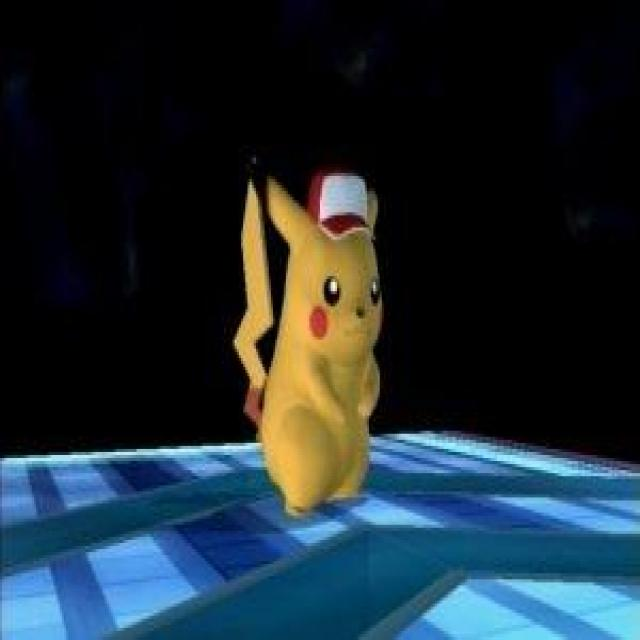pikachu: (234, 176, 382, 519)
